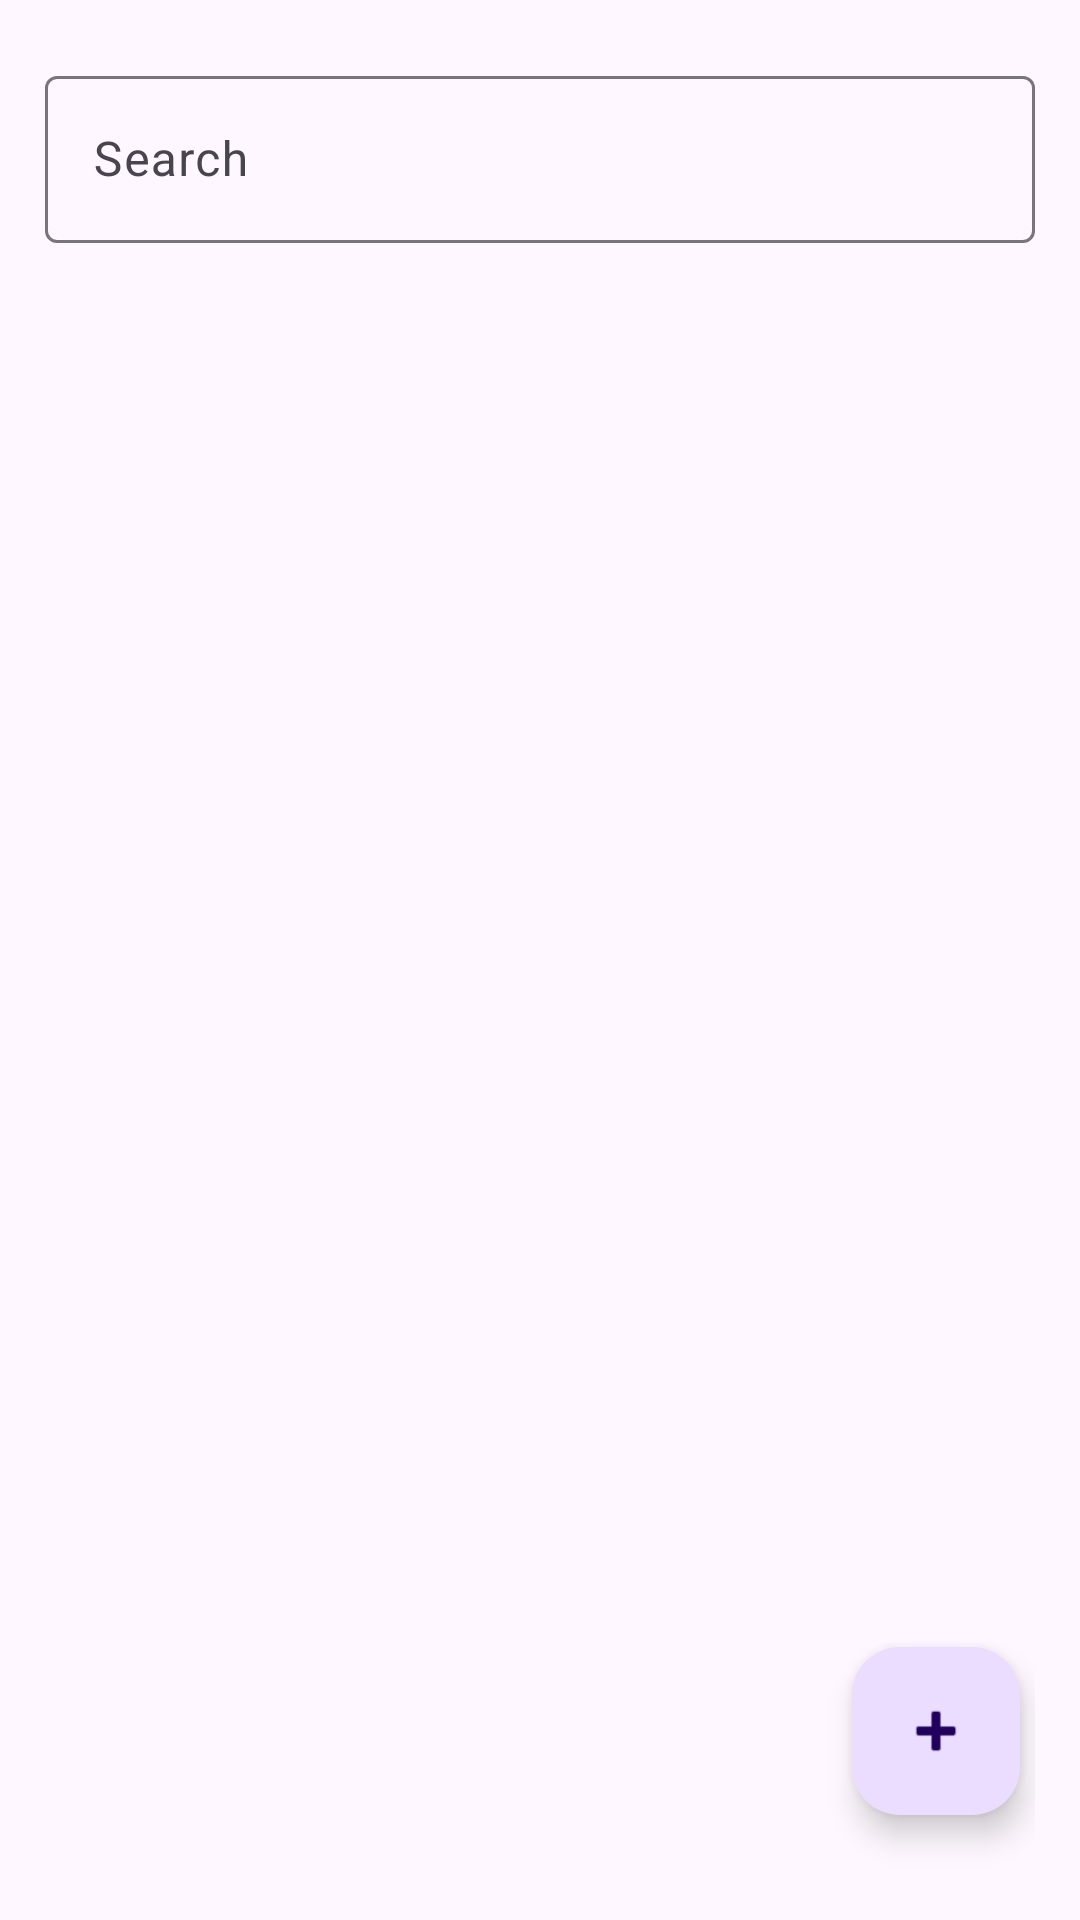

Point at icon controls on the screen. Image size 1080w x 1920h, points as (x,y).
add: (936,1731)
